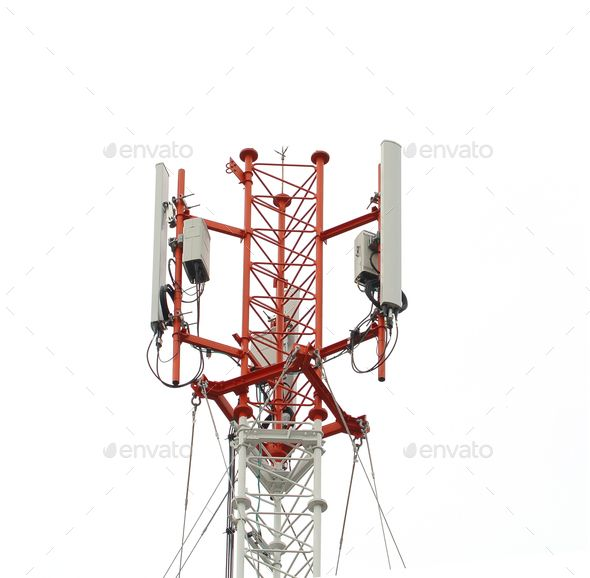a: (380, 140, 402, 310), (151, 164, 171, 339)
